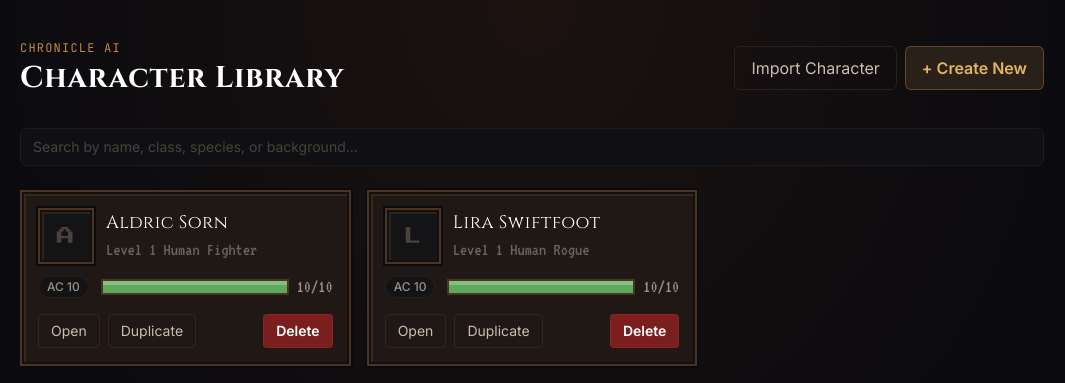
it: CharacterLibraryPage — search › filters by class/archetype as well as name
Expected: the heading "Aldric Sorn" is shown, [106,210,228,235]
Type "rogue" into the field named "Search characters" at (532, 147), box [20,128,1044,166]
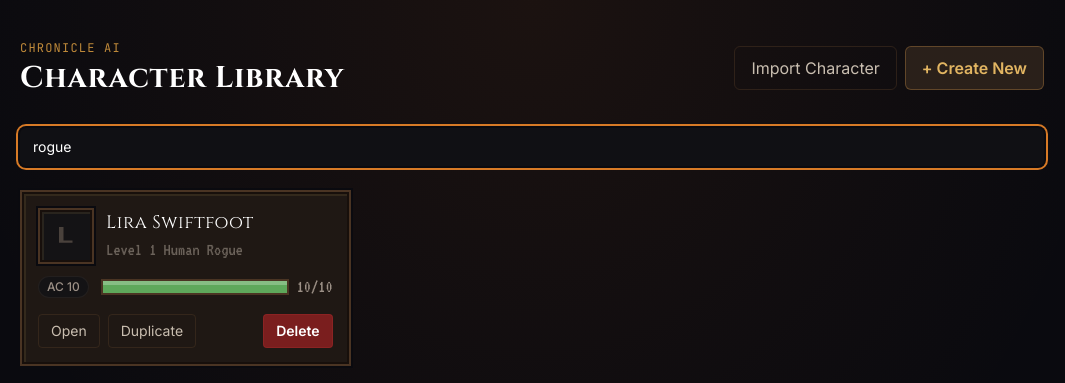
Expected: the heading "Lira Swiftfoot" is shown, [106,209,254,237]
Expected: the button "Aldric Sorn" is gone
